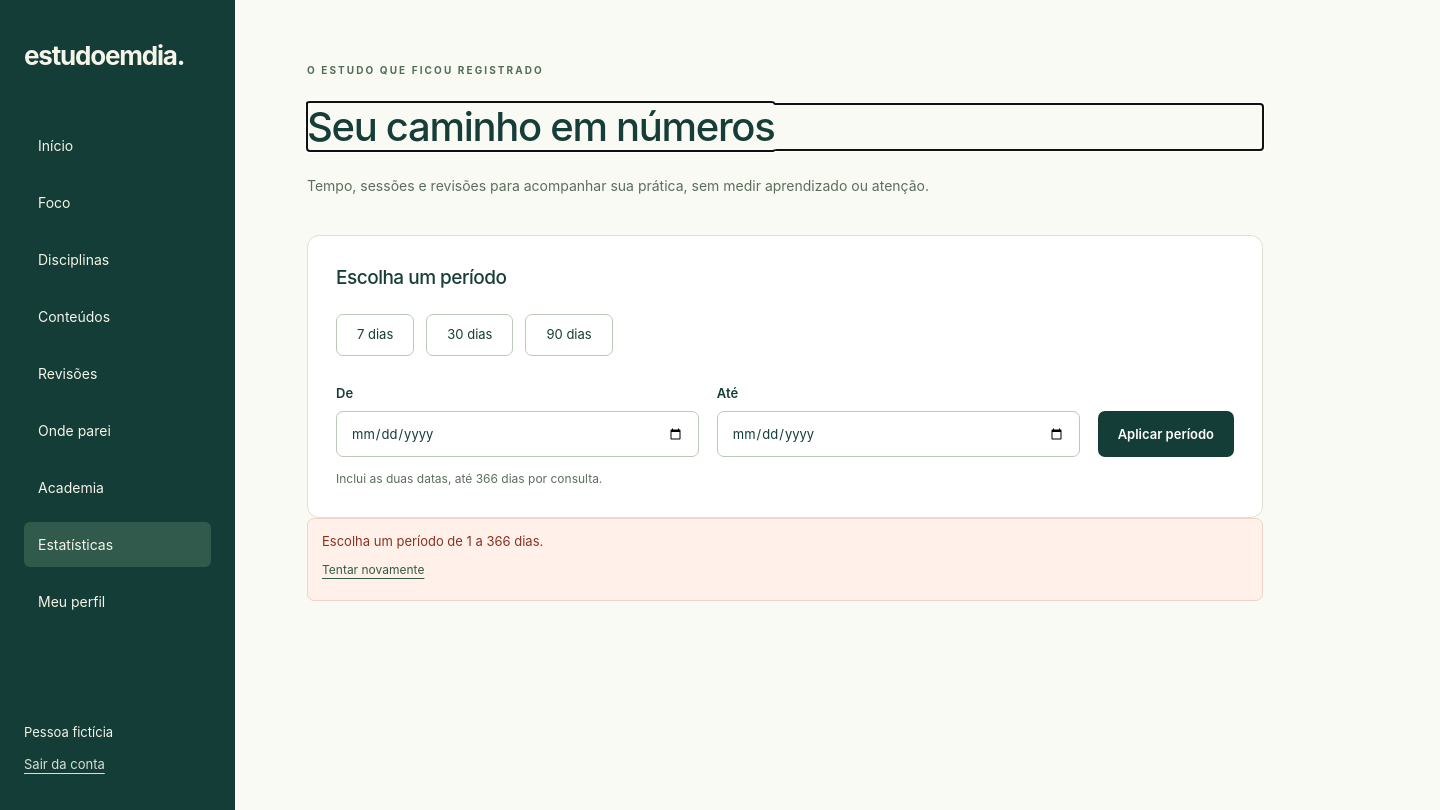
academia e estatísticas › erro de período retorna feedback e permite consultar novamente
The width and height of the screenshot is (1440, 810).
Expected: the message "Escolha um período de 1 a 366 dias." is shown, [322,533,543,549]
Expected: the text "5 min 30 s" is not shown
Click the button "Tentar novamente" at (373, 570), box [322,552,424,588]
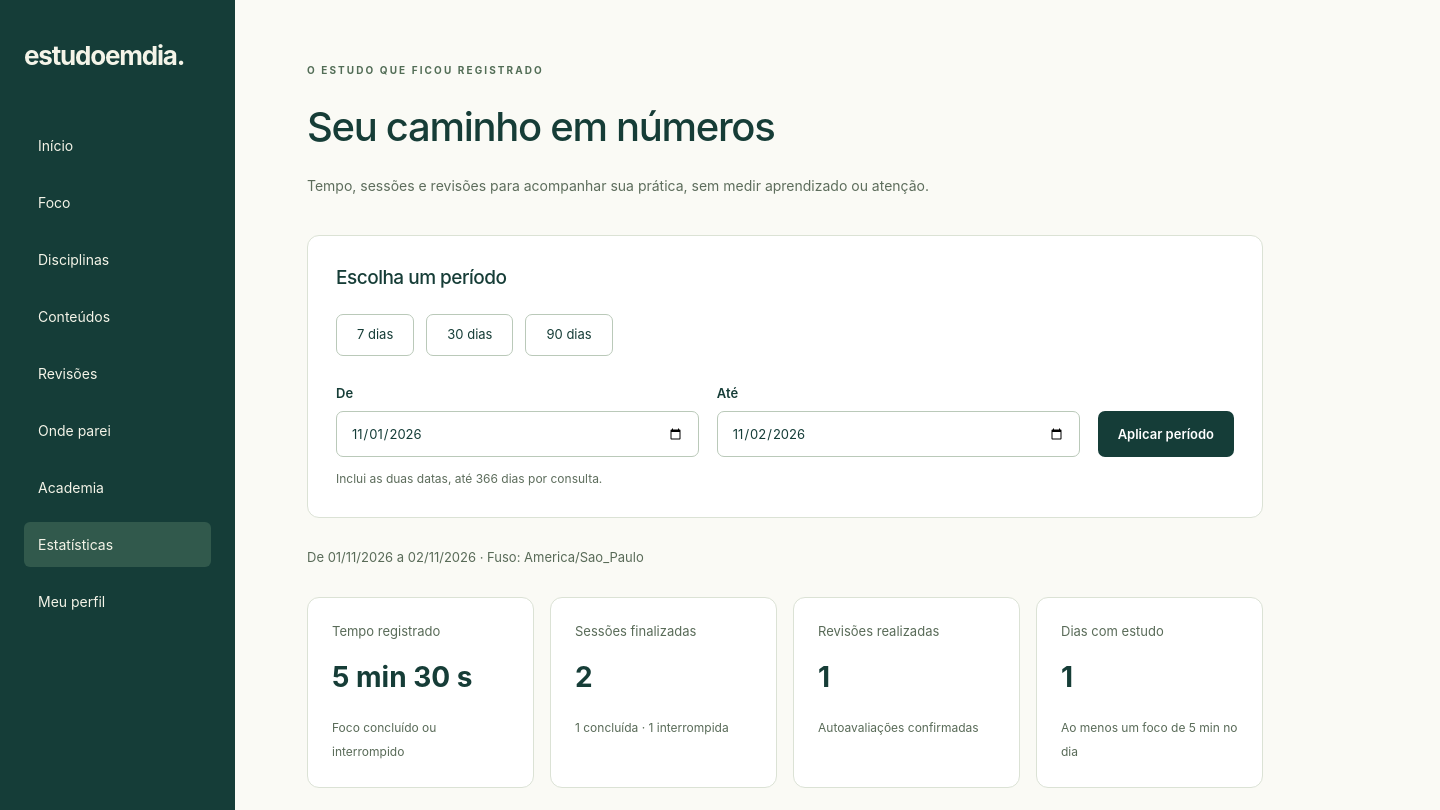
Expected: the text "5 min 30 s" is shown, [332,660,472,694]
